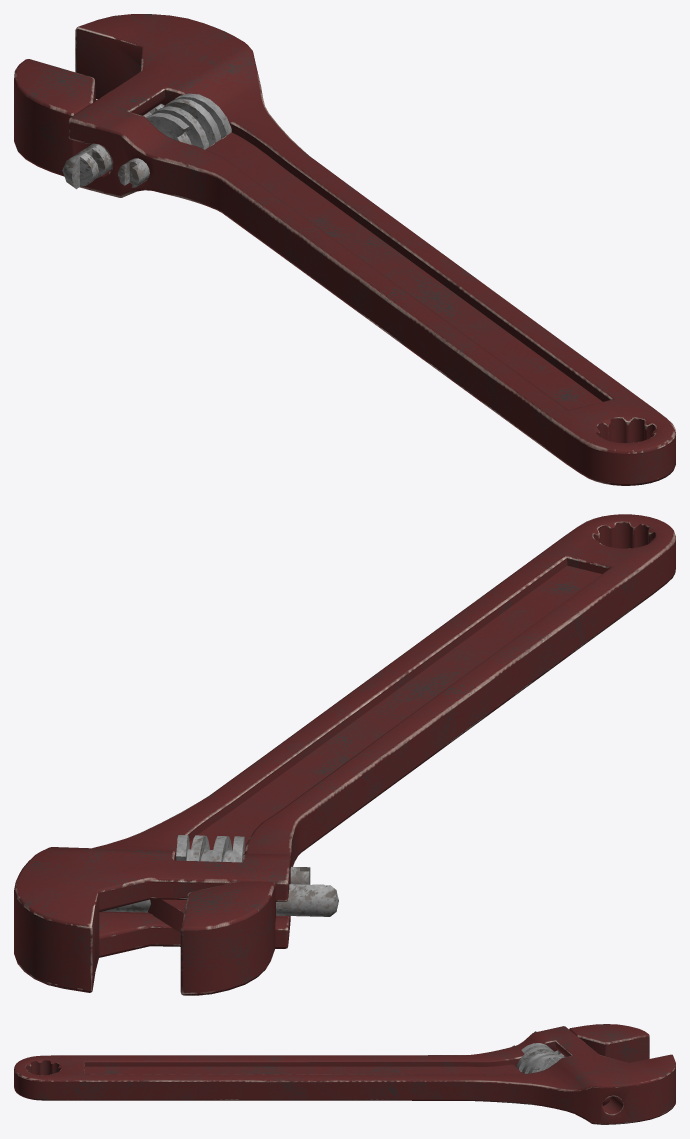
Rendered from ChiaveInglese.obj.
3 views of the same model, one above another, from view 1: azimuth 30°, elevation 25°; view 2: azimuth 150°, elevation 25°; view 3: azimuth 270°, elevation 25° (orthographic). The views are drawn at different scales.
Visible parts, largest first — view 1: RUS_Wrench_SK; view 2: RUS_Wrench_SK; view 3: RUS_Wrench_SK.
Part boxes in pixels (<box>): RUS_Wrench_SK: <box>14,14,675,485</box>; RUS_Wrench_SK: <box>14,514,675,995</box>; RUS_Wrench_SK: <box>14,1024,675,1124</box>.
Bounding box in the file's own units: 21.71 × 6.37 × 89.15.
